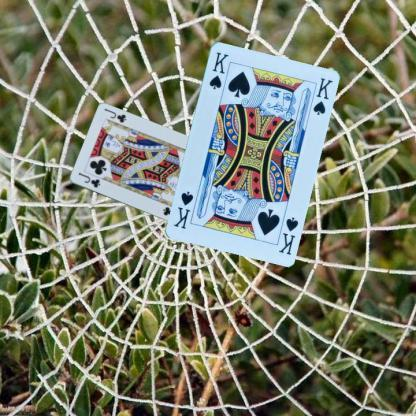Jc: (76, 170, 102, 189)
Ks: (206, 49, 230, 91), (276, 214, 299, 256)
